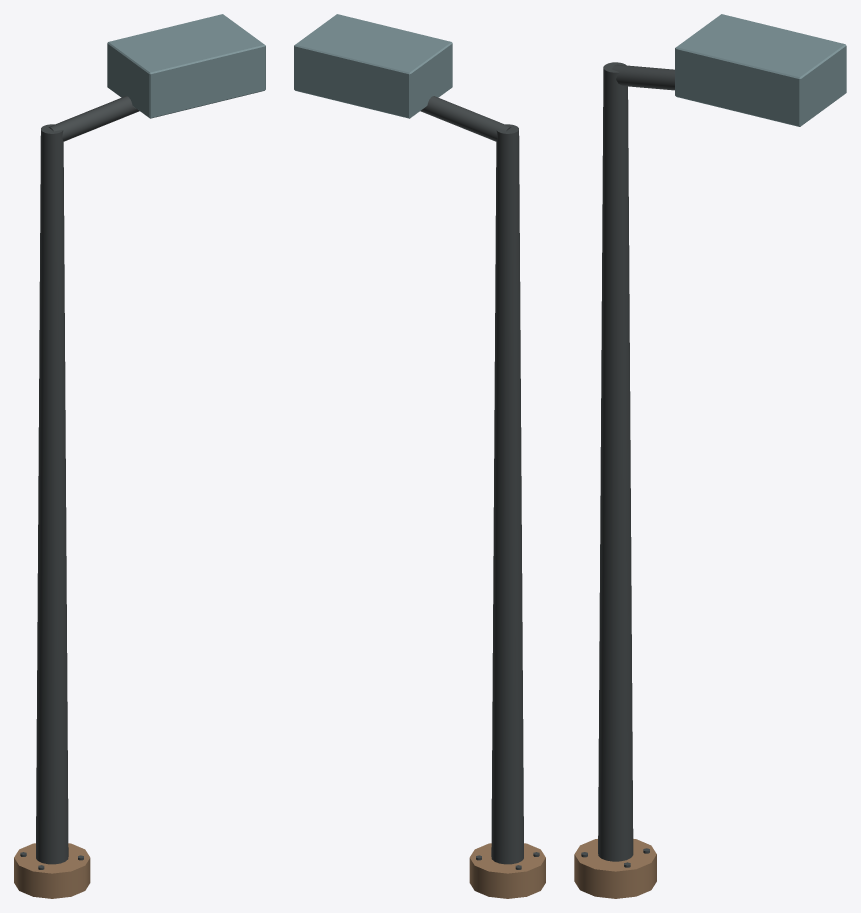
File: SM_LS_IndustrialLamp.fbx
3 renders of one model, left to right at view 1: azimuth 30°, elevation 25°; view 2: azimuth 150°, elevation 25°; view 3: azimuth 330°, elevation 25°, orthographic. The views are drawn at different scales.
Parts seen in each view (by area): view 1: SM_LS_IndustrialLamp; view 2: SM_LS_IndustrialLamp; view 3: SM_LS_IndustrialLamp.
Part boxes in pixels (box(x1,y1,x2,y2)): SM_LS_IndustrialLamp: box(14, 14, 265, 898); SM_LS_IndustrialLamp: box(294, 14, 545, 898); SM_LS_IndustrialLamp: box(574, 14, 846, 898).
Size of what is drawn, in the model's own units: 1.03 by 0.34 by 3.5.
